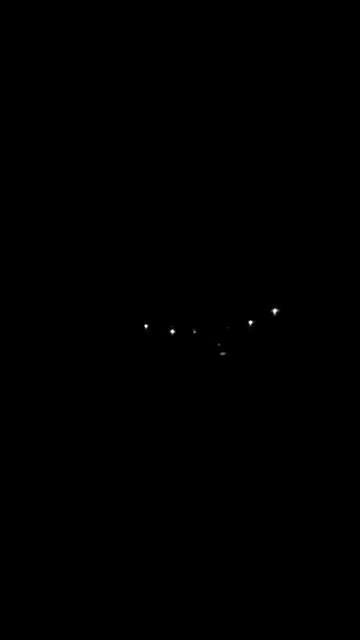Plane: (125, 300, 297, 376)
